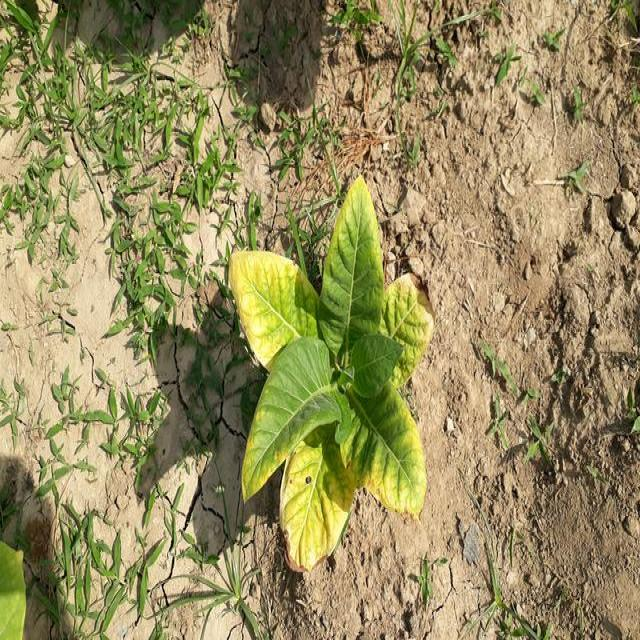crop: (223, 176, 437, 572), (0, 540, 29, 639)
